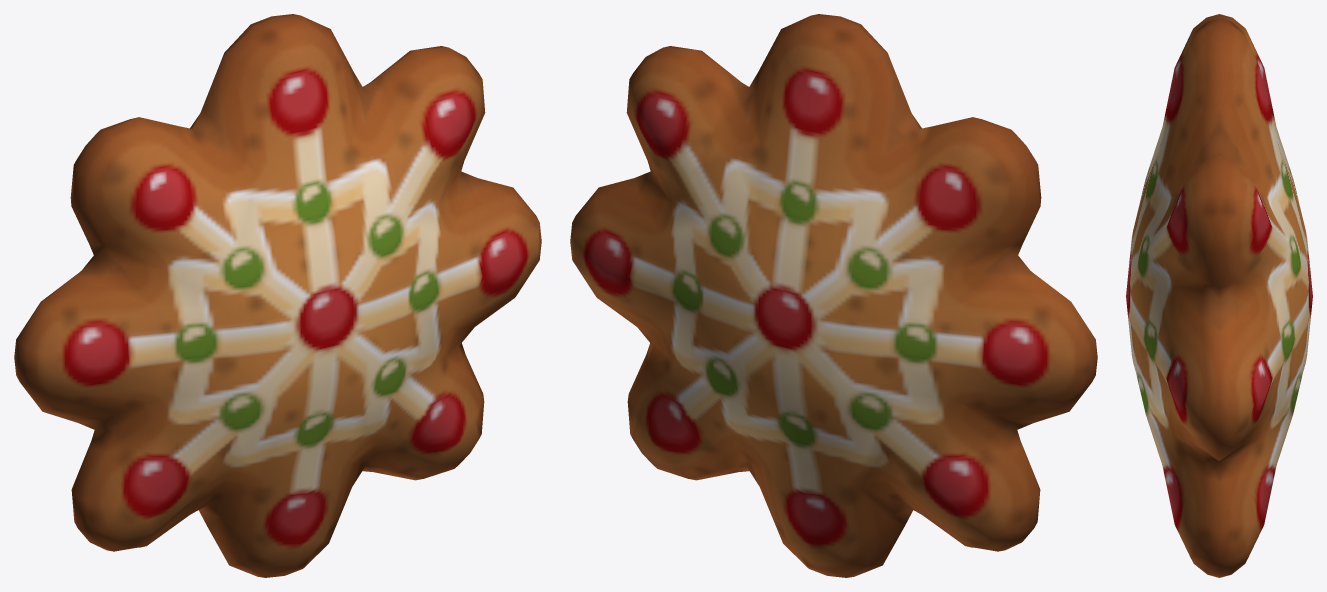
3 views of the same model, side by side, from view 1: azimuth 30°, elevation 25°; view 2: azimuth 150°, elevation 25°; view 3: azimuth 270°, elevation 25° (orthographic). The views are drawn at different scales.
Parts seen in each view (by area): view 1: V5_Christmas Collection30_V5_Christmas Collection_0; view 2: V5_Christmas Collection30_V5_Christmas Collection_0; view 3: V5_Christmas Collection30_V5_Christmas Collection_0.
Boxes of the visible parts, left/top/right/bottom form: V5_Christmas Collection30_V5_Christmas Collection_0: left=14, top=14, right=541, bottom=577; V5_Christmas Collection30_V5_Christmas Collection_0: left=570, top=14, right=1097, bottom=577; V5_Christmas Collection30_V5_Christmas Collection_0: left=1126, top=14, right=1312, bottom=577.
Bounding box in the file's own units: 56.84 × 57.99 × 18.34.
Materials: 1 (1 with a texture image).
